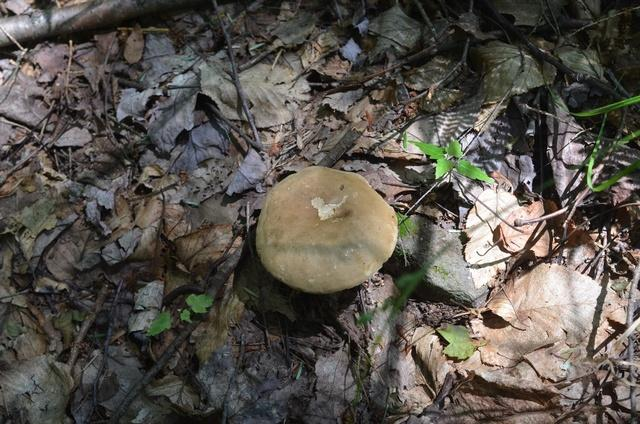poisonous_mushroom: (254, 164, 399, 295)
